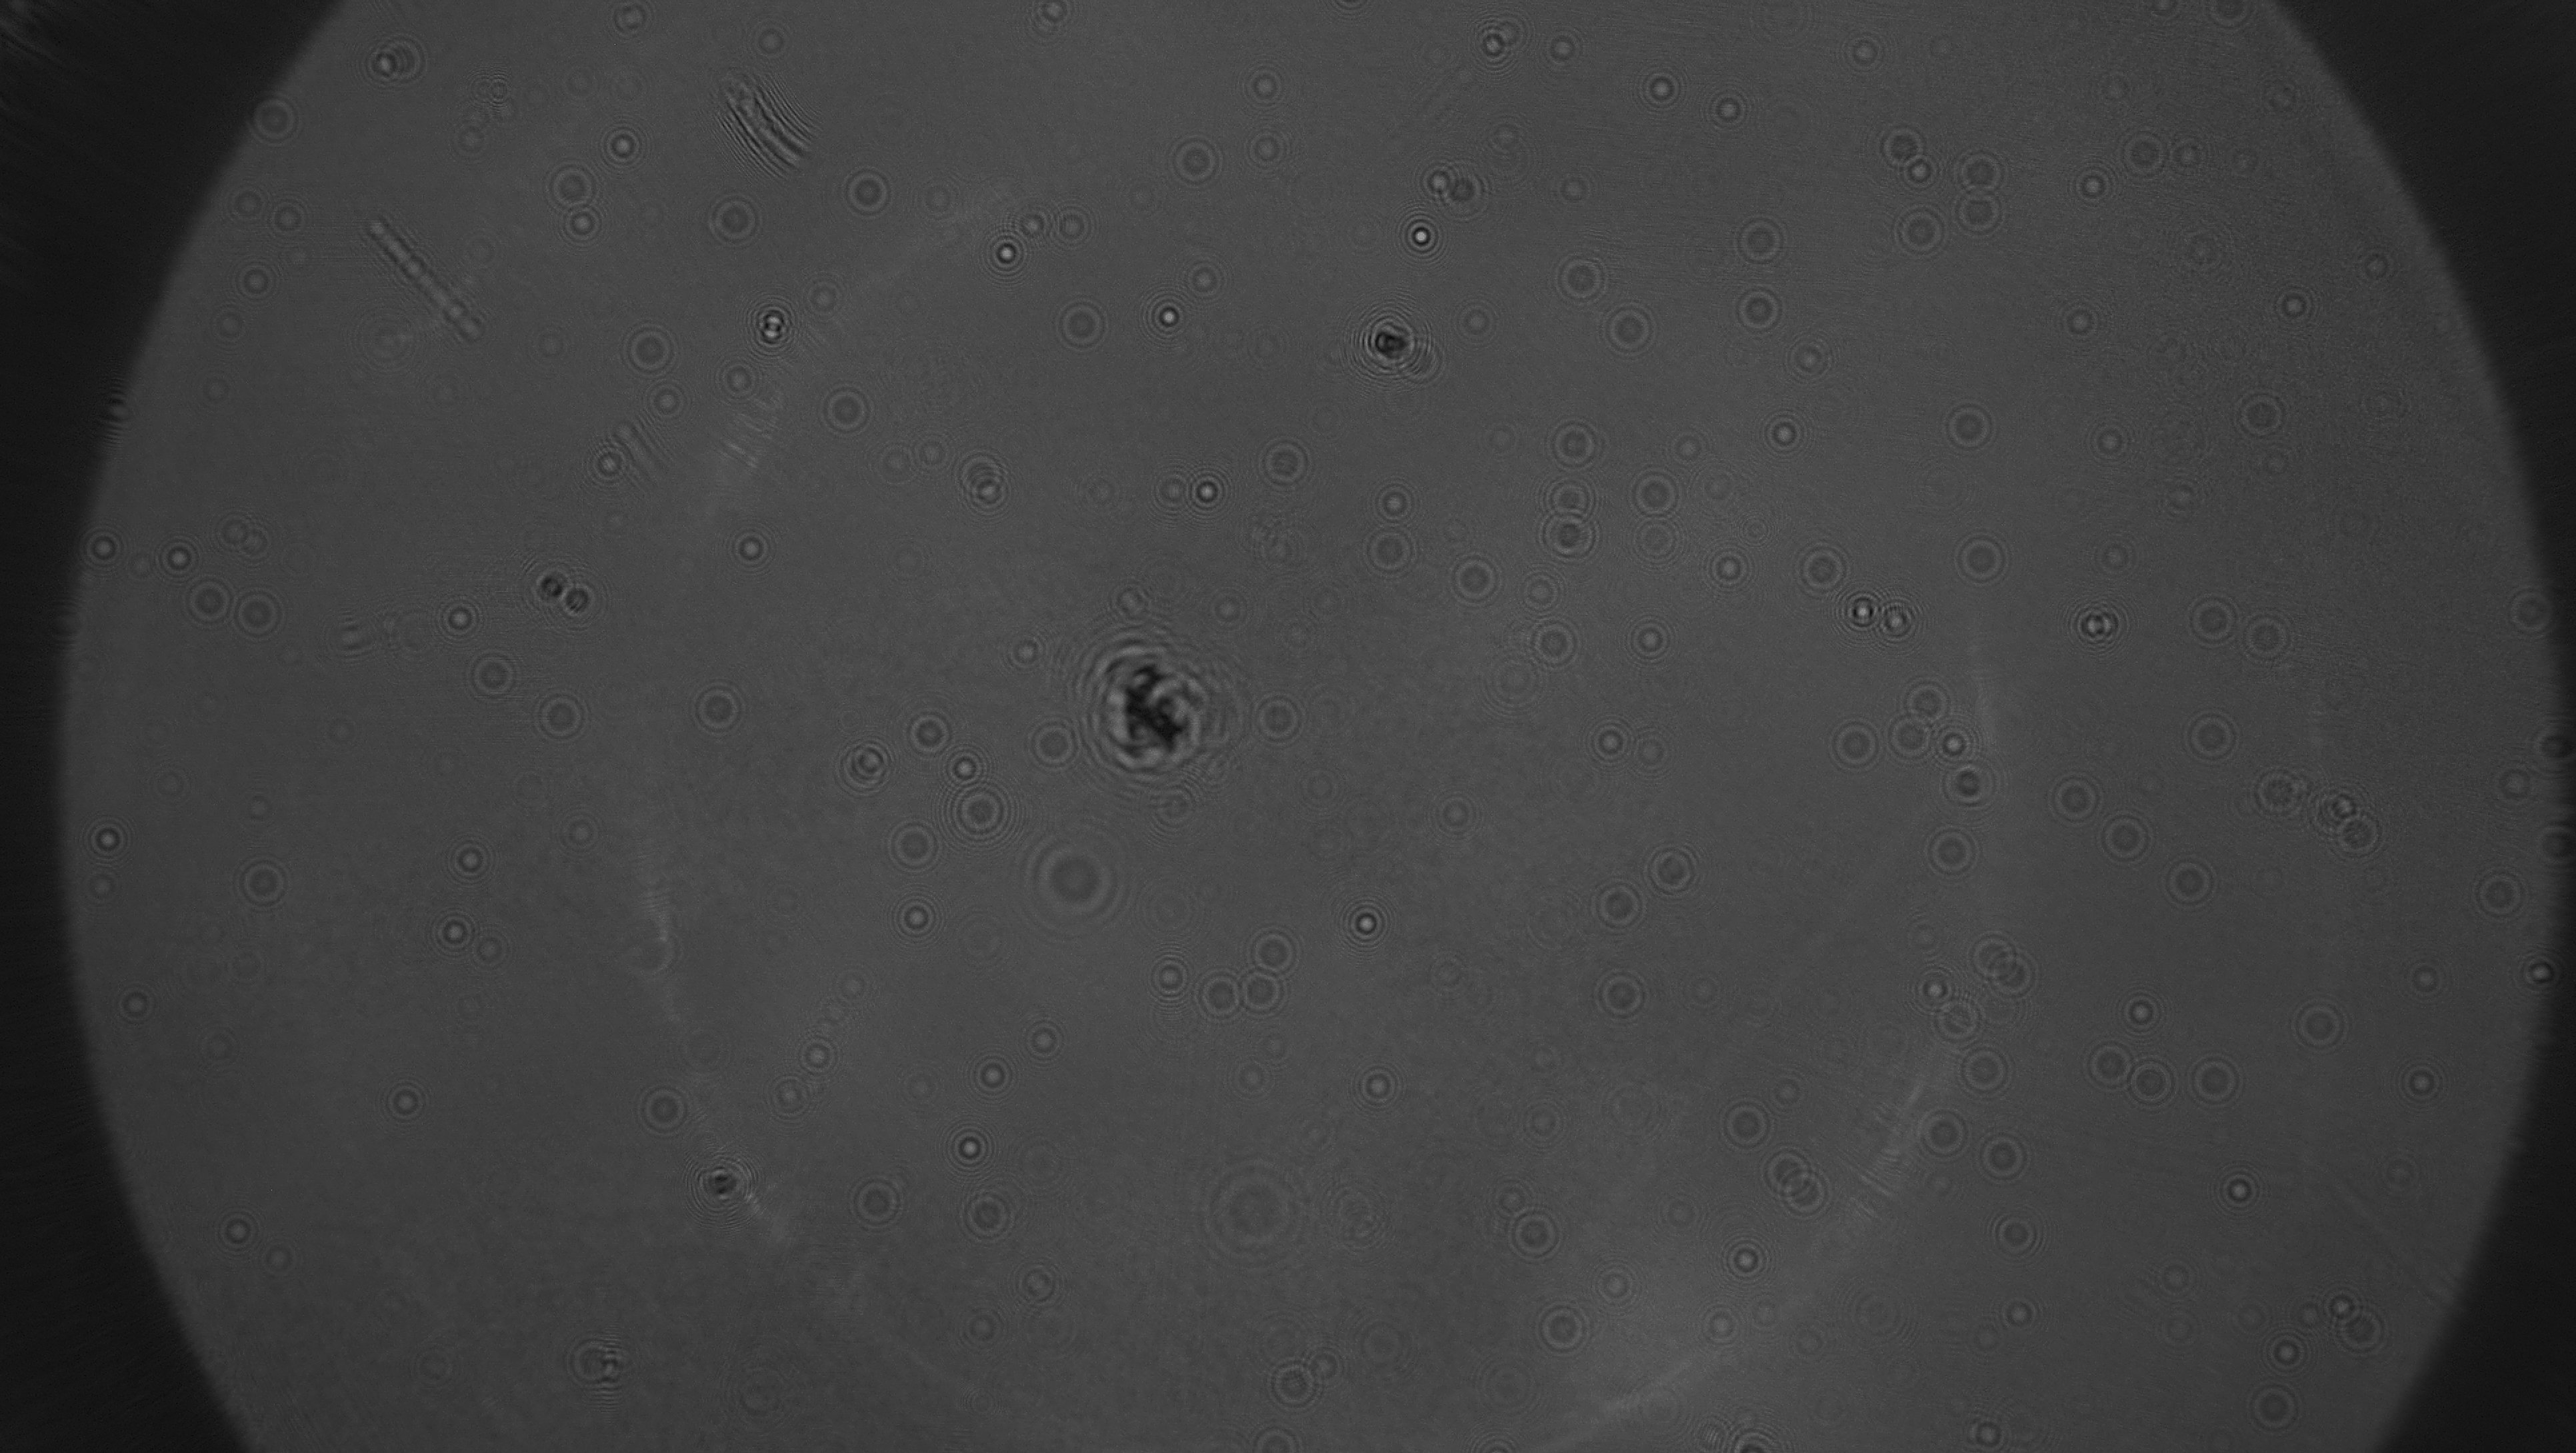bead: (837, 1168, 915, 1237), (1042, 287, 1116, 357), (1944, 526, 2020, 595), (2171, 703, 2247, 772), (683, 676, 761, 740), (943, 780, 1023, 842), (2275, 993, 2357, 1053), (626, 1074, 701, 1140), (2222, 386, 2302, 446), (225, 850, 297, 915), (1155, 127, 1228, 191), (1914, 819, 1987, 883), (614, 317, 685, 381), (695, 189, 768, 251), (1608, 611, 1683, 671), (1247, 688, 1313, 756), (1012, 713, 1085, 773), (2240, 607, 2307, 671), (1941, 386, 2003, 455), (2157, 850, 2226, 911), (1721, 207, 1792, 267), (2240, 1377, 2311, 1437), (527, 683, 596, 743), (1598, 299, 1667, 359), (879, 885, 943, 949), (1888, 198, 1951, 262), (1973, 1124, 2038, 1186), (1819, 715, 1886, 775), (2111, 124, 2171, 191), (1438, 550, 1507, 609), (879, 816, 943, 878), (1353, 524, 1421, 582), (538, 158, 607, 214), (2187, 1048, 2249, 1110), (955, 1186, 1019, 1246), (1711, 1096, 1776, 1154), (2051, 759, 2102, 834), (2097, 807, 2164, 864), (2463, 864, 2530, 920), (460, 648, 522, 708), (839, 159, 901, 219), (1585, 876, 1647, 936), (2178, 589, 2242, 648), (812, 382, 878, 439), (2077, 1034, 2132, 1101), (1787, 543, 1856, 596), (379, 1071, 437, 1133), (1548, 248, 1612, 304), (104, 979, 170, 1034), (241, 92, 308, 145), (895, 710, 966, 759), (1953, 186, 2012, 244), (234, 584, 290, 644), (1732, 281, 1792, 338), (1628, 62, 1690, 117), (1907, 1104, 1969, 1159), (966, 225, 1031, 276), (1959, 1041, 2017, 1097), (1253, 435, 1315, 488), (2206, 1165, 2268, 1218), (943, 1120, 1000, 1177), (180, 577, 239, 632), (1628, 465, 1686, 519), (1594, 961, 1647, 1019), (425, 908, 479, 961), (2127, 1055, 2178, 1111), (1580, 719, 1637, 766), (81, 812, 131, 865), (2394, 1058, 2449, 1106), (1895, 676, 1953, 719), (441, 837, 495, 881), (2068, 159, 2116, 209), (156, 534, 202, 582), (441, 593, 487, 637), (81, 529, 124, 570)
dust: (1311, 1166, 1392, 1251), (1481, 651, 1550, 720), (1472, 1349, 1543, 1412), (1633, 839, 1707, 899), (1143, 775, 1214, 832), (264, 193, 333, 250), (1507, 1103, 1583, 1152), (1139, 873, 1198, 936), (2180, 219, 2238, 281), (203, 1202, 267, 1258), (573, 439, 642, 490), (1992, 1292, 2054, 1349), (1012, 1258, 1076, 1313), (2079, 534, 2150, 582), (202, 301, 269, 350), (2162, 465, 2213, 527), (368, 32, 428, 83), (1583, 1257, 1644, 1308), (1474, 113, 1539, 159), (2484, 761, 2544, 811), (734, 19, 801, 64), (1451, 299, 1513, 347), (2054, 294, 2107, 349), (1357, 1060, 1415, 1110), (2378, 1147, 2429, 1202), (1691, 1306, 1746, 1357), (2146, 1253, 2212, 1295), (955, 1301, 1007, 1354), (1789, 331, 1842, 382), (1900, 910, 1953, 961), (803, 276, 860, 324), (1702, 457, 1748, 515), (1654, 1189, 1709, 1237), (1548, 168, 1601, 216), (2222, 1294, 2275, 1342), (1762, 1071, 1817, 1117), (2157, 1301, 2204, 1352), (1739, 1294, 1796, 1336), (1831, 34, 1895, 71), (221, 184, 272, 230), (2401, 950, 2449, 998), (874, 437, 924, 483), (1477, 412, 1523, 462), (1681, 972, 1732, 1016), (1783, 1318, 1835, 1363), (191, 372, 244, 414), (1182, 257, 1233, 299), (1484, 1175, 1534, 1218), (2355, 248, 2401, 290), (717, 363, 766, 402), (446, 122, 492, 161), (260, 1241, 301, 1278), (2102, 67, 2139, 104)
